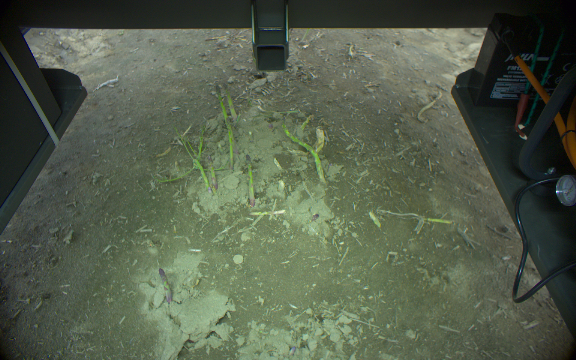aspa: (279, 121, 327, 185), (244, 155, 257, 207), (192, 160, 213, 192), (224, 85, 240, 120), (215, 85, 229, 123), (224, 118, 234, 169), (207, 157, 219, 189), (427, 216, 453, 225), (368, 211, 381, 228)
